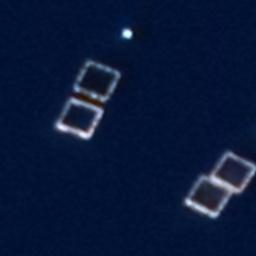square_solid: (54, 96, 106, 143), (182, 173, 232, 221), (73, 59, 122, 105), (210, 150, 256, 197)
